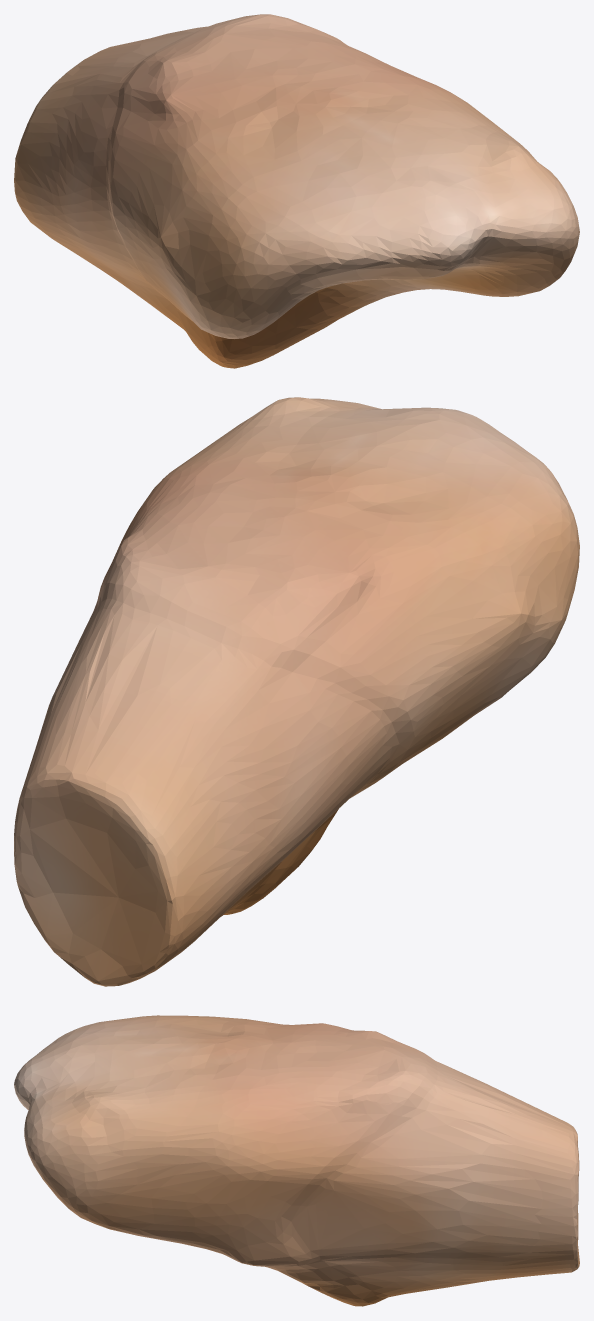
The model's file is local_t32_7780.OBJ.
3 renders of one model, top to bottom at view 1: azimuth 30°, elevation 25°; view 2: azimuth 150°, elevation 25°; view 3: azimuth 270°, elevation 25°, orthographic. The views are drawn at different scales.
Visible parts, largest first — view 1: ZBrush_defualt_group; view 2: ZBrush_defualt_group; view 3: ZBrush_defualt_group.
Part boxes in pixels (x1,y1,x2,y2): ZBrush_defualt_group: (14,14,579,368); ZBrush_defualt_group: (14,397,579,986); ZBrush_defualt_group: (14,1015,579,1306).
Bounding box in the file's own units: 6.24 × 5.84 × 11.56.
Materials: 1 (1 with a texture image).
